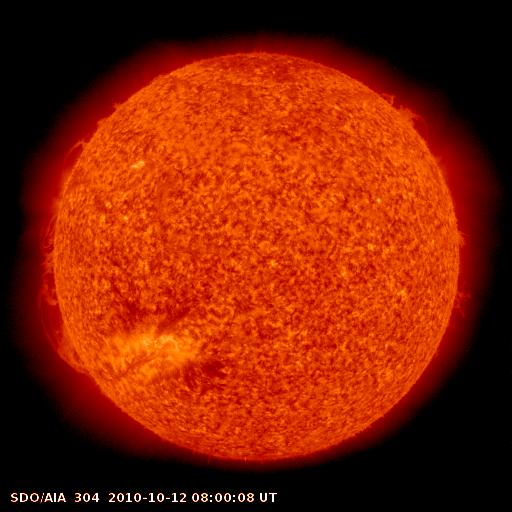prominence: (31, 281, 97, 384), (375, 76, 439, 146), (24, 199, 70, 283), (51, 125, 100, 193), (436, 278, 479, 331), (443, 216, 480, 266)
